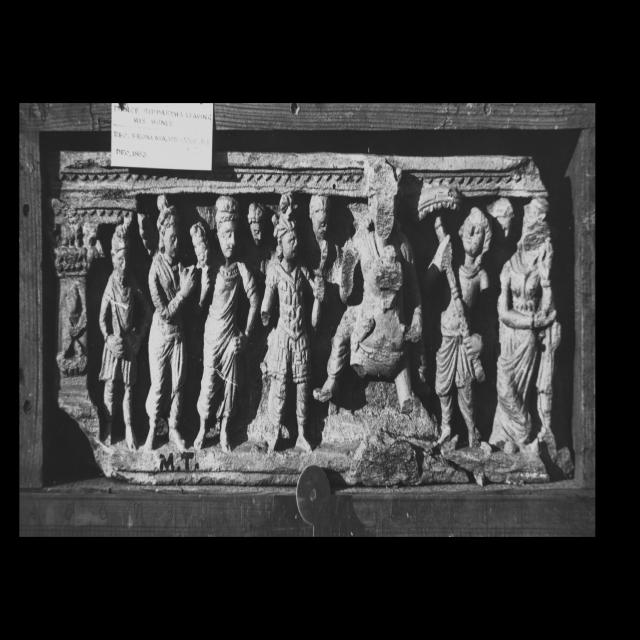buddha-horse-riding: (314, 160, 422, 413)
